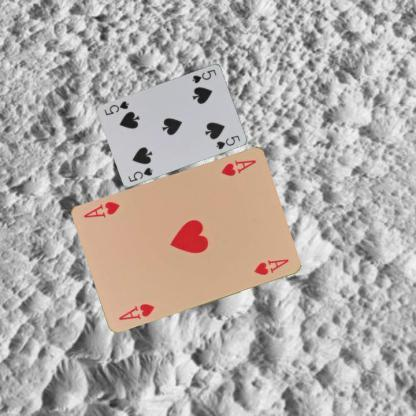5s: (126, 165, 154, 184), (189, 66, 218, 84)
Ah: (218, 156, 258, 178), (116, 300, 156, 322)
